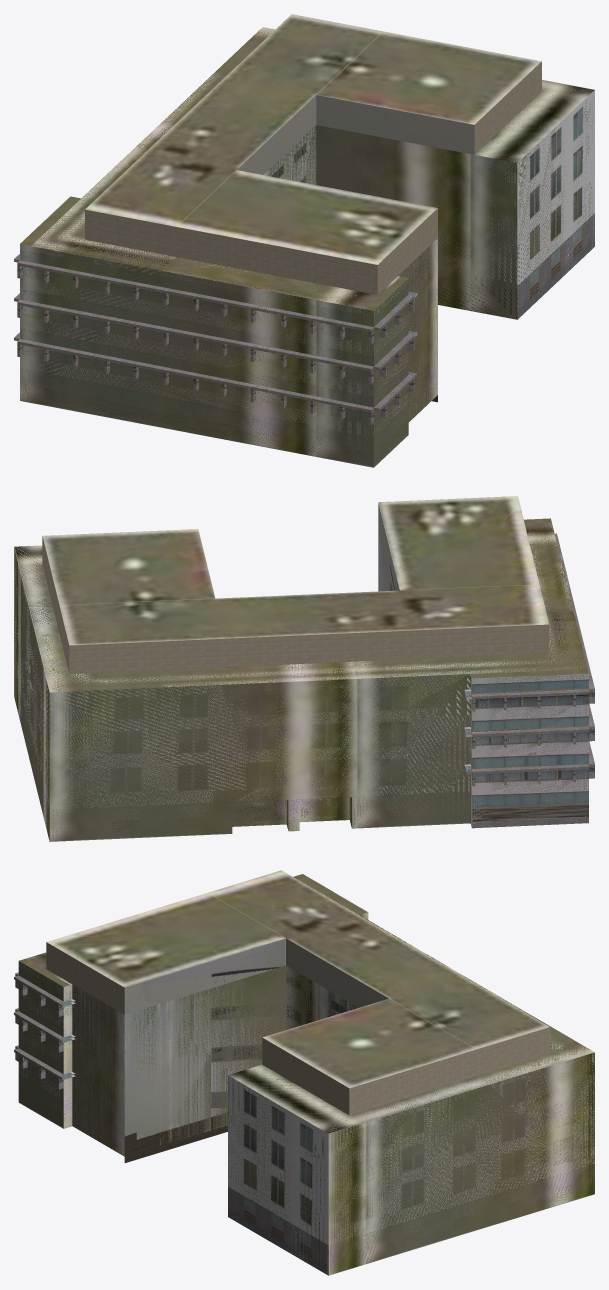
File: Ciencias empresariales.fbx
3 views of the same model, one above another, from view 1: azimuth 30°, elevation 25°; view 2: azimuth 150°, elevation 25°; view 3: azimuth 270°, elevation 25° (orthographic). The views are drawn at different scales.
Visible parts, largest first — view 1: Group2, Group1, Group55, Group35, Group25, Group30, Group31, Group36, Group26; view 2: Group2, Group1, Group3, Group55, Group5, Group17, Group11, Group25; view 3: Group2, Group1, Group55.
Boxes of the visible parts, box(x1,y1,x2,y2) form: Group2: box(20, 27, 594, 467); Group1: box(31, 14, 590, 421); Group55: box(85, 61, 541, 294); Group35: box(17, 339, 373, 412); Group25: box(17, 260, 373, 332); Group30: box(17, 299, 373, 371); Group31: box(44, 310, 373, 384); Group36: box(44, 349, 373, 425); Group26: box(44, 270, 373, 344); Group2: box(14, 518, 588, 841); Group1: box(16, 496, 584, 692); Group3: box(472, 673, 588, 828); Group55: box(42, 505, 549, 673); Group5: box(472, 689, 589, 699); Group17: box(472, 764, 589, 774); Group11: box(472, 726, 589, 736); Group25: box(554, 533, 594, 691); Group2: box(18, 874, 594, 1275); Group1: box(47, 870, 592, 1162); Group55: box(46, 938, 549, 1115).
Size of the model in its own units: 63.37 by 20.35 by 59.39.
